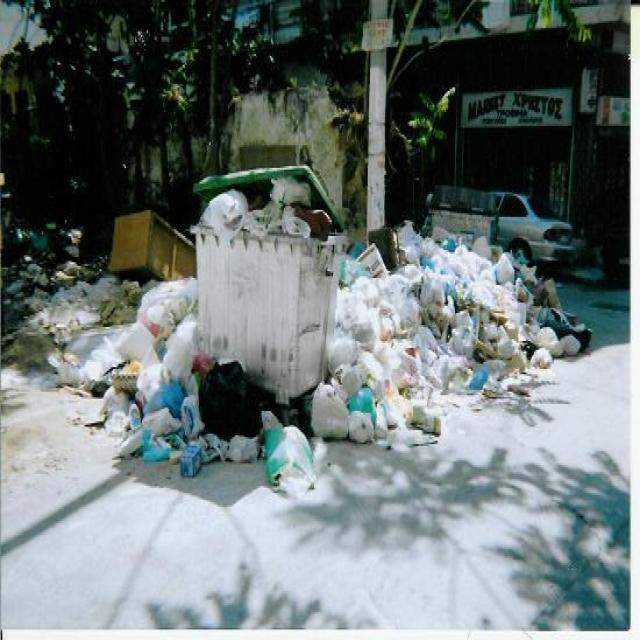garbage: (336, 218, 594, 379), (80, 267, 204, 483), (196, 352, 322, 504), (198, 175, 330, 253), (318, 379, 420, 439)
